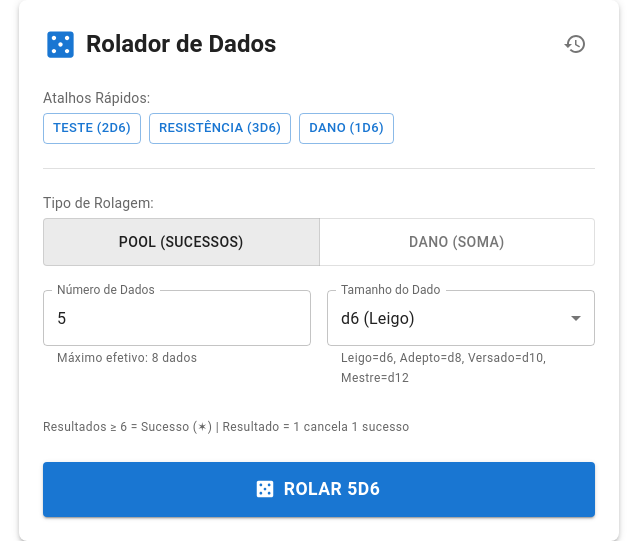
DiceRoller › Presets › should apply skill test preset
Click the button with aria-label "preset de teste de habilidade" at (92, 128), box [43,113,141,144]
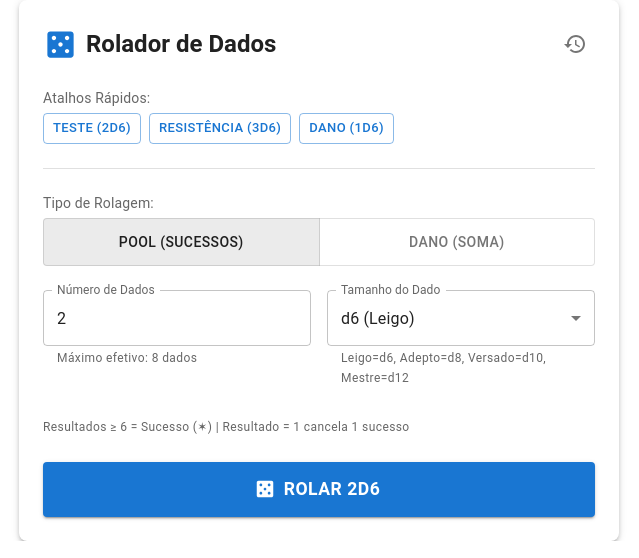
Expected: the button with aria-label "rolar dados" shows "2d6", [43,462,595,517]
